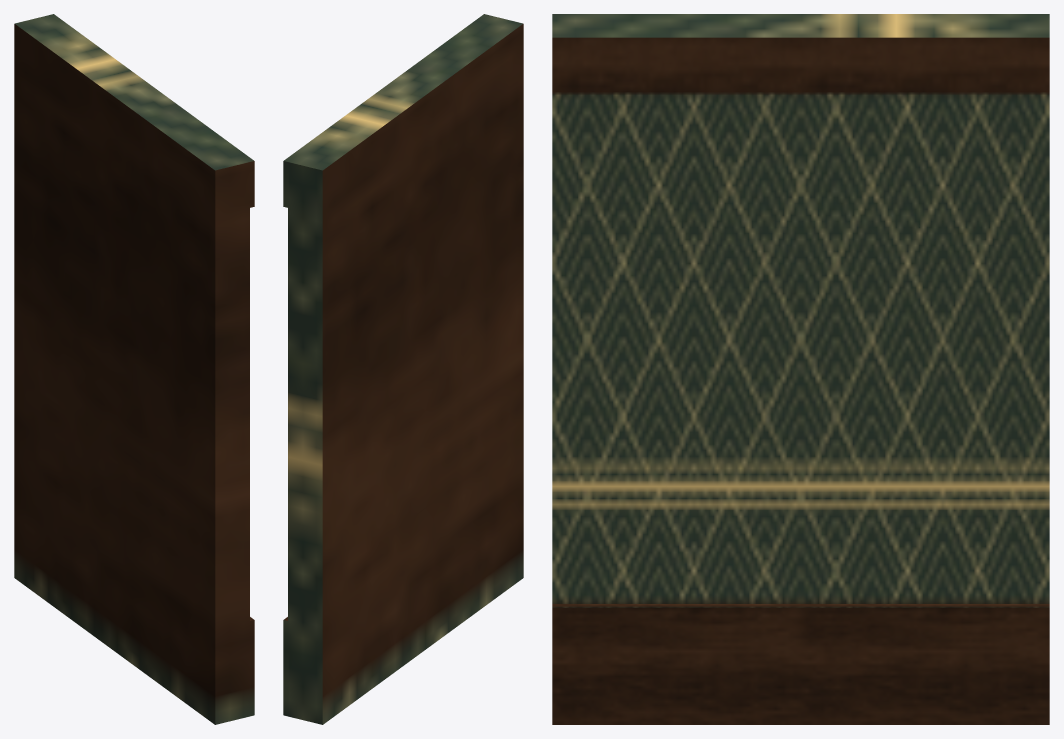
File: Wall.glb
The picture shows the model from 3 angles, left to right: view 1: azimuth 30°, elevation 25°; view 2: azimuth 150°, elevation 25°; view 3: azimuth 270°, elevation 25°; orthographic projection. The views are drawn at different scales.
Parts seen in each view (by area): view 1: Wall; view 2: Wall; view 3: Wall.
Boxes of the visible parts, bbox=[...] form: Wall: bbox=[14, 14, 254, 724]; Wall: bbox=[283, 14, 523, 724]; Wall: bbox=[552, 14, 1049, 724].
Bounding box in the file's own units: 0.2264 × 3.05 × 2.
1 material, 1 textured.
